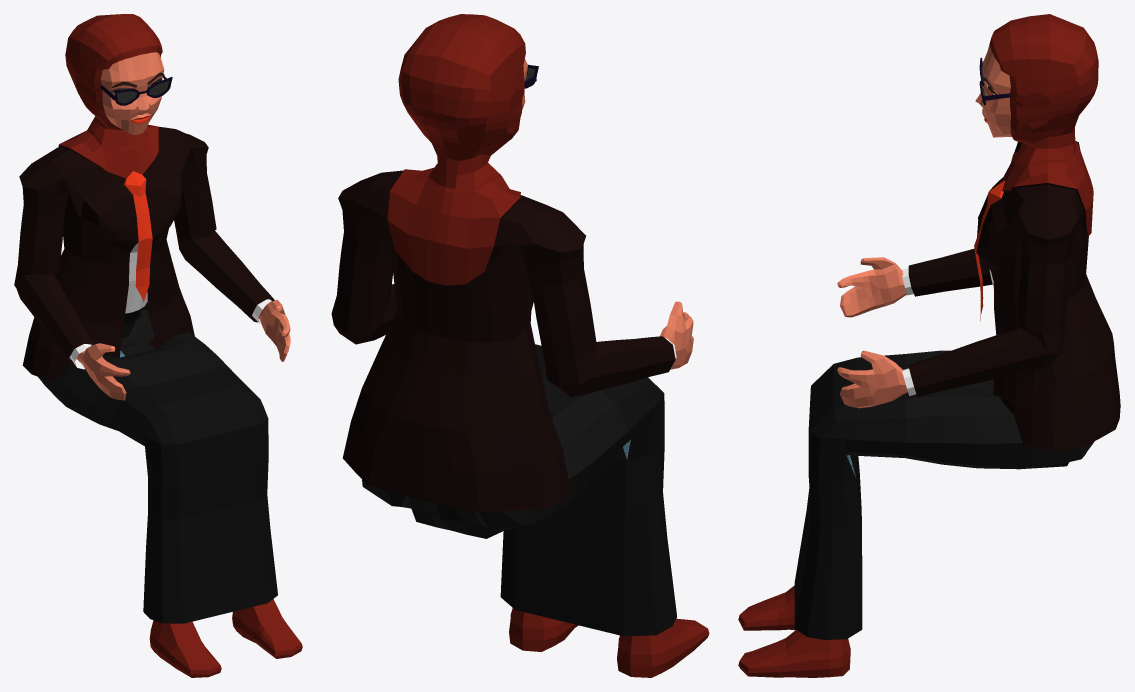
File: ScientistFemale_A_Sit.fbx
3 renders of one model, left to right at view 1: azimuth 30°, elevation 25°; view 2: azimuth 150°, elevation 25°; view 3: azimuth 270°, elevation 25°, orthographic. The views are drawn at different scales.
Parts seen in each view (by area): view 1: ScientistFemale_A_Sit; view 2: ScientistFemale_A_Sit; view 3: ScientistFemale_A_Sit.
Boxes of the visible parts, x1,y1,x2,y2 form: ScientistFemale_A_Sit: (14,14,302,677); ScientistFemale_A_Sit: (331,14,709,677); ScientistFemale_A_Sit: (738,14,1120,677).
Bounding box in the file's own units: 0.281 × 0.7132 × 0.3951.
